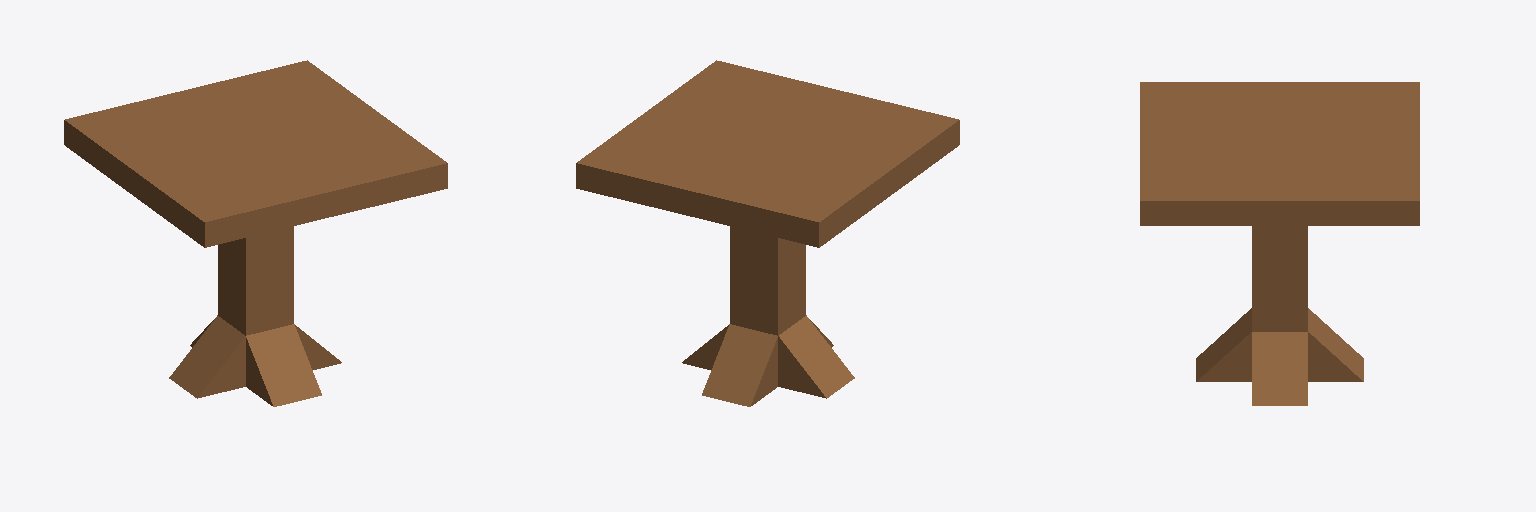
The model's file is stand.obj.
3 views of the same model, side by side, from view 1: azimuth 30°, elevation 25°; view 2: azimuth 150°, elevation 25°; view 3: azimuth 270°, elevation 25° (orthographic).
Parts seen in each view (by area): view 1: stand_mesh_Cube; view 2: stand_mesh_Cube; view 3: stand_mesh_Cube.
Part boxes in pixels (left/top/right/bottom): stand_mesh_Cube: left=64, top=60, right=447, bottom=406; stand_mesh_Cube: left=576, top=60, right=959, bottom=406; stand_mesh_Cube: left=1140, top=82, right=1419, bottom=405.
Size of the model in its own units: 0.5 by 0.45 by 0.5.